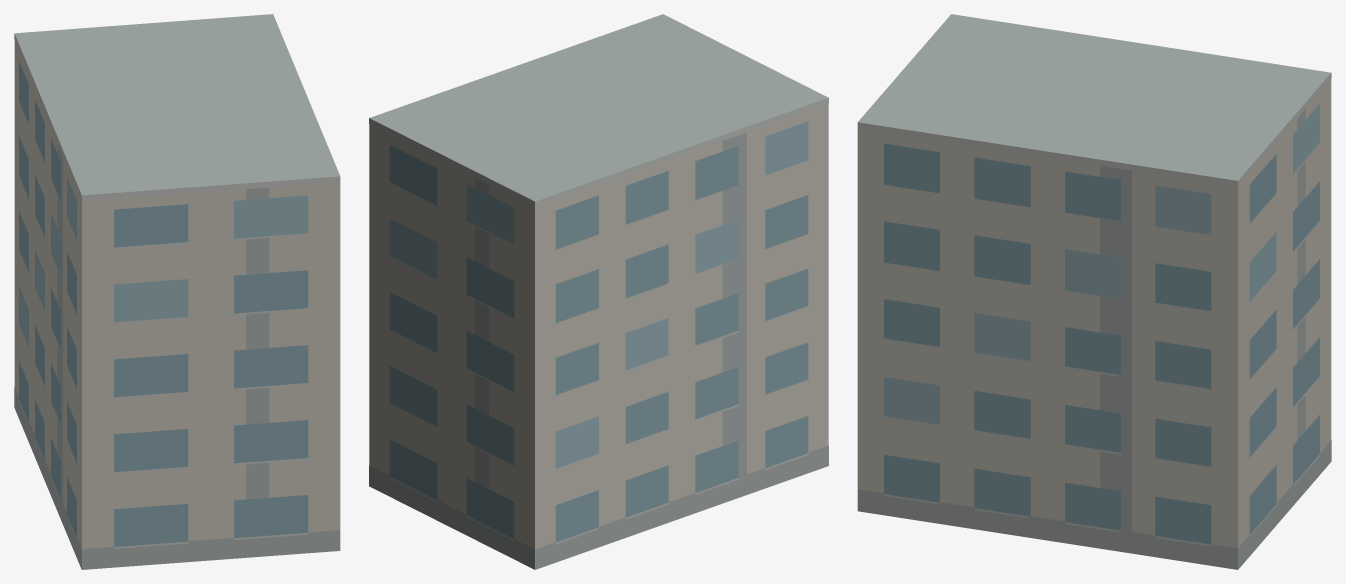
Rendered from residential-8e77a841-d69e-42fb-95e0-e67cdf4c1008.glb.
3 renders of one model, left to right at view 1: azimuth 30°, elevation 25°; view 2: azimuth 150°, elevation 25°; view 3: azimuth 270°, elevation 25°, orthographic. The views are drawn at different scales.
Visible parts, largest first — view 1: residential-8e77a841-d69e-42fb-95e0-e67cdf4c1008.tmp; view 2: residential-8e77a841-d69e-42fb-95e0-e67cdf4c1008.tmp; view 3: residential-8e77a841-d69e-42fb-95e0-e67cdf4c1008.tmp.
Part boxes in pixels (x1,y1,x2,y2): residential-8e77a841-d69e-42fb-95e0-e67cdf4c1008.tmp: (14, 14, 340, 569); residential-8e77a841-d69e-42fb-95e0-e67cdf4c1008.tmp: (369, 14, 828, 569); residential-8e77a841-d69e-42fb-95e0-e67cdf4c1008.tmp: (857, 14, 1331, 569).
Bounding box in the file's own units: 14.04 × 15.25 × 16.84.
